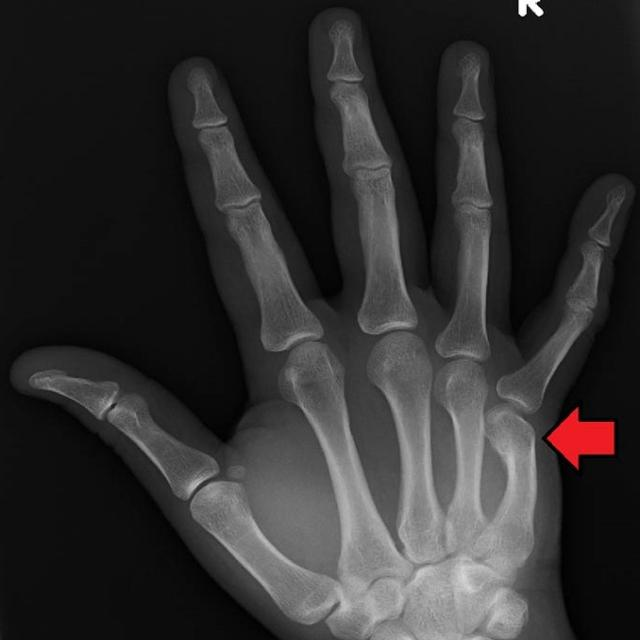fracture: (470, 358, 580, 468)
